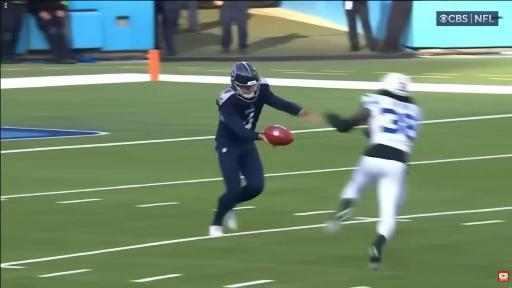Helmet: (231, 62, 260, 101), (381, 73, 411, 96)
Jersey: (216, 79, 301, 145), (361, 94, 422, 153)
Player: (325, 73, 422, 268), (210, 62, 314, 235)
